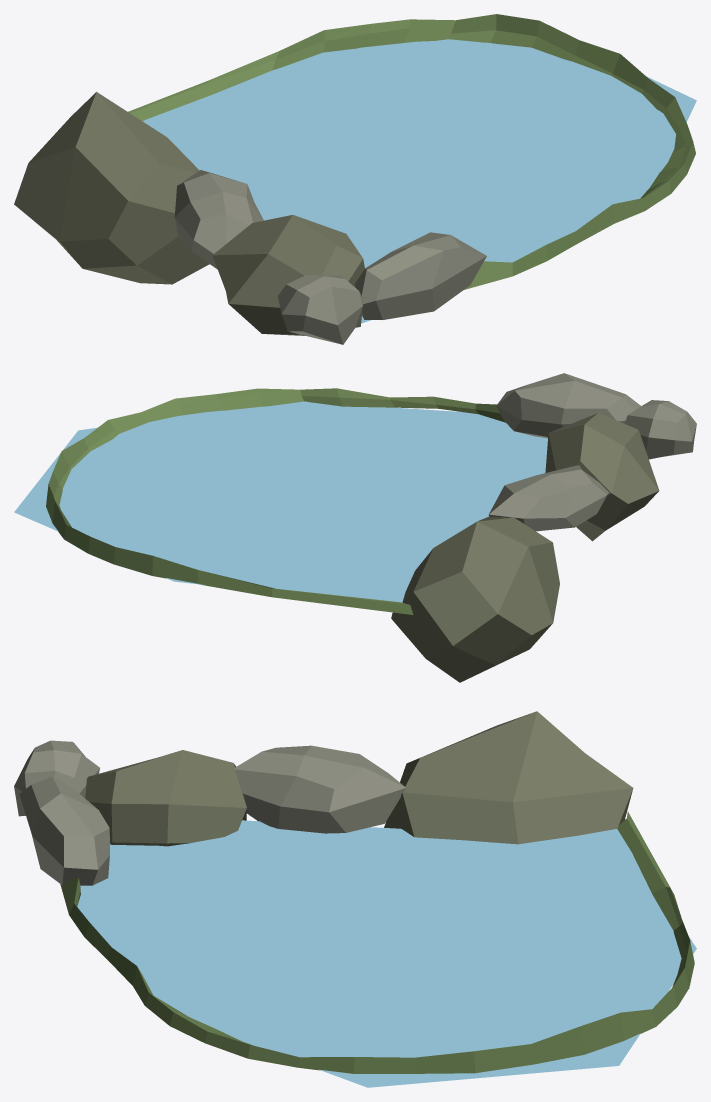
The model's file is waterSpringPop.glb.
3 renders of one model, top to bottom at view 1: azimuth 30°, elevation 25°; view 2: azimuth 150°, elevation 25°; view 3: azimuth 270°, elevation 25°, orthographic. The views are drawn at different scales.
Parts seen in each view (by area): view 1: water, Cube.003, Plane, Cube.001, Cube.002, Cube.004, Cube; view 2: water, Cube.003, Plane, Cube.001, Cube.002, Cube.004, Cube; view 3: water, Cube.003, Plane, Cube.001, Cube.004, Cube.002, Cube.
Part boxes in pixels (x1,y1,x2,y2): water: [142, 39, 696, 323]; Cube.003: [14, 92, 209, 284]; Plane: [128, 14, 695, 289]; Cube.001: [212, 215, 364, 335]; Cube.002: [354, 232, 486, 319]; Cube.004: [174, 170, 263, 269]; Cube: [277, 275, 362, 344]; water: [14, 401, 547, 602]; Cube.003: [391, 516, 559, 682]; Plane: [46, 388, 505, 614]; Cube.001: [545, 413, 659, 541]; Cube.002: [496, 373, 640, 438]; Cube.004: [488, 465, 609, 531]; Cube: [624, 400, 696, 459]; water: [77, 820, 696, 1087]; Cube.003: [384, 711, 633, 844]; Plane: [60, 811, 694, 1073]; Cube.001: [85, 750, 246, 846]; Cube.004: [235, 745, 405, 833]; Cube.002: [19, 776, 109, 885]; Cube: [14, 740, 99, 816].
Size of the model in its own units: 2.34 by 0.6537 by 2.07.
